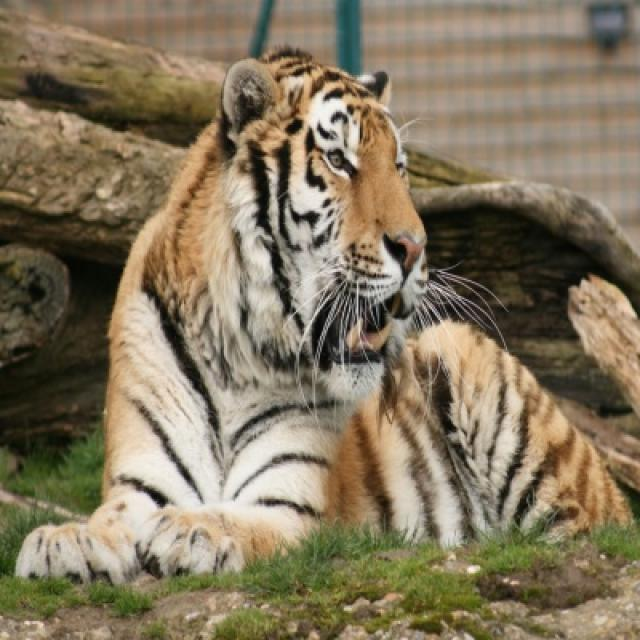Tiger: (18, 51, 630, 582)
